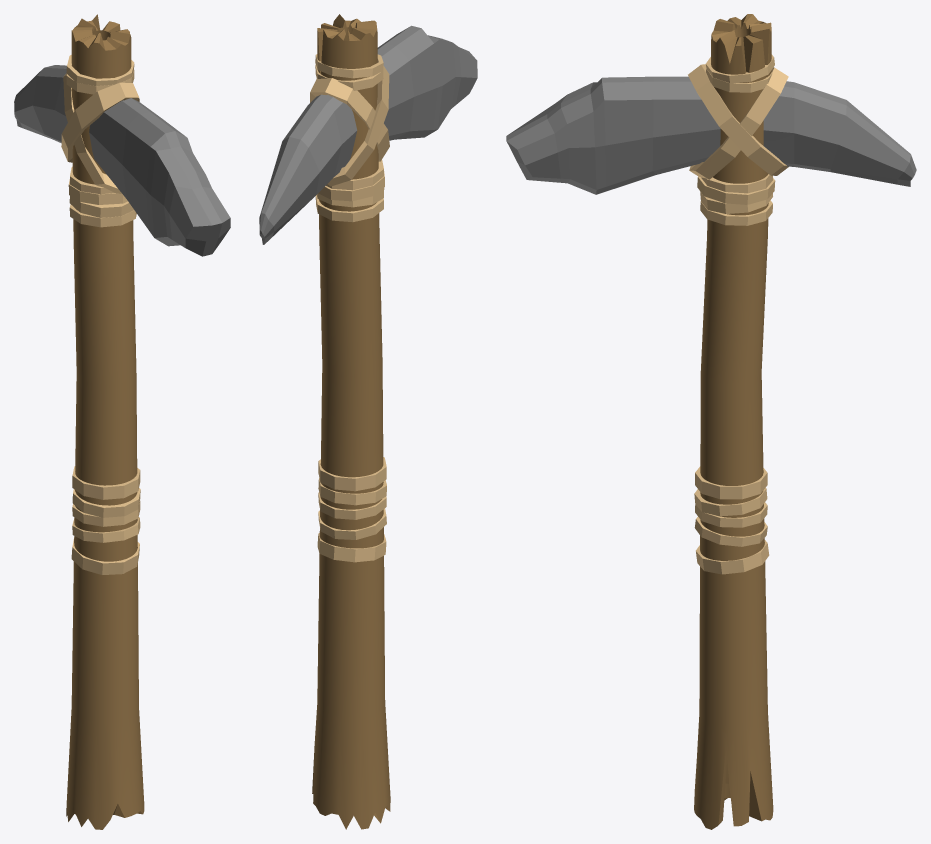
File: pickaxe.glb
3 views of the same model, side by side, from view 1: azimuth 30°, elevation 25°; view 2: azimuth 150°, elevation 25°; view 3: azimuth 270°, elevation 25° (orthographic).
Visible parts, largest first — view 1: Cylinder.089; view 2: Cylinder.089; view 3: Cylinder.089.
Part boxes in pixels (left/top/right/bottom): Cylinder.089: left=14, top=14, right=230, bottom=829; Cylinder.089: left=259, top=14, right=477, bottom=829; Cylinder.089: left=506, top=14, right=916, bottom=829.
Bounding box in the file's own units: 0.1373 × 1.53 × 0.7092.
